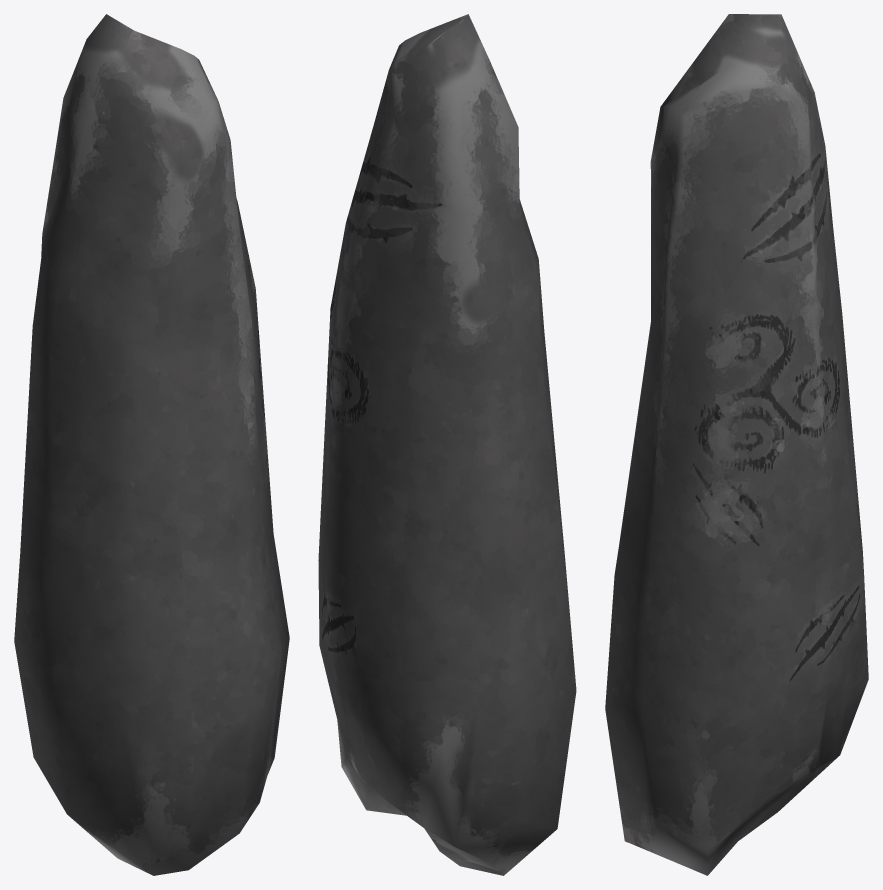
The model's file is Menhir_4_Game.fbx.
3 renders of one model, left to right at view 1: azimuth 30°, elevation 25°; view 2: azimuth 150°, elevation 25°; view 3: azimuth 270°, elevation 25°, orthographic. The views are drawn at different scales.
Parts seen in each view (by area): view 1: pCube1; view 2: pCube1; view 3: pCube1.
Boxes of the visible parts, left/top/right/bottom form: pCube1: left=14, top=14, right=289, bottom=875; pCube1: left=318, top=14, right=576, bottom=875; pCube1: left=605, top=14, right=868, bottom=875.
Size of the model in its own units: 4.24 by 14.11 by 4.02.
Materials: 1 (1 with a texture image).
